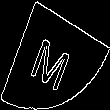M_NE: (31, 22, 79, 88)
